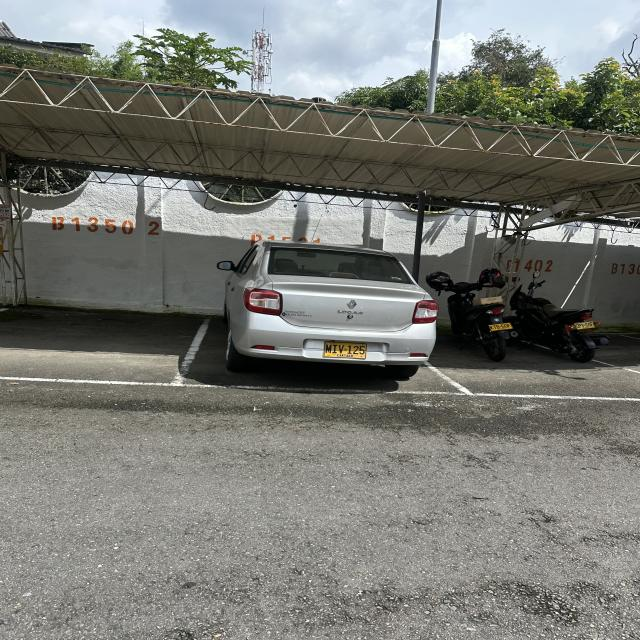number plate: (323, 341, 366, 359), (488, 322, 513, 331), (574, 321, 595, 330)
